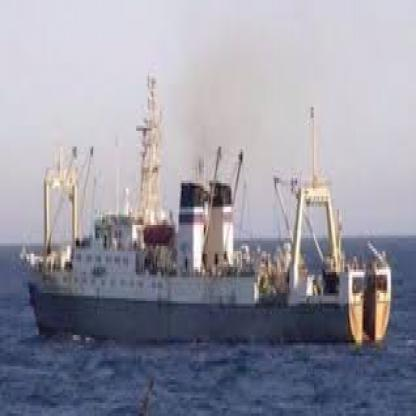fish-b: (11, 60, 402, 364)
